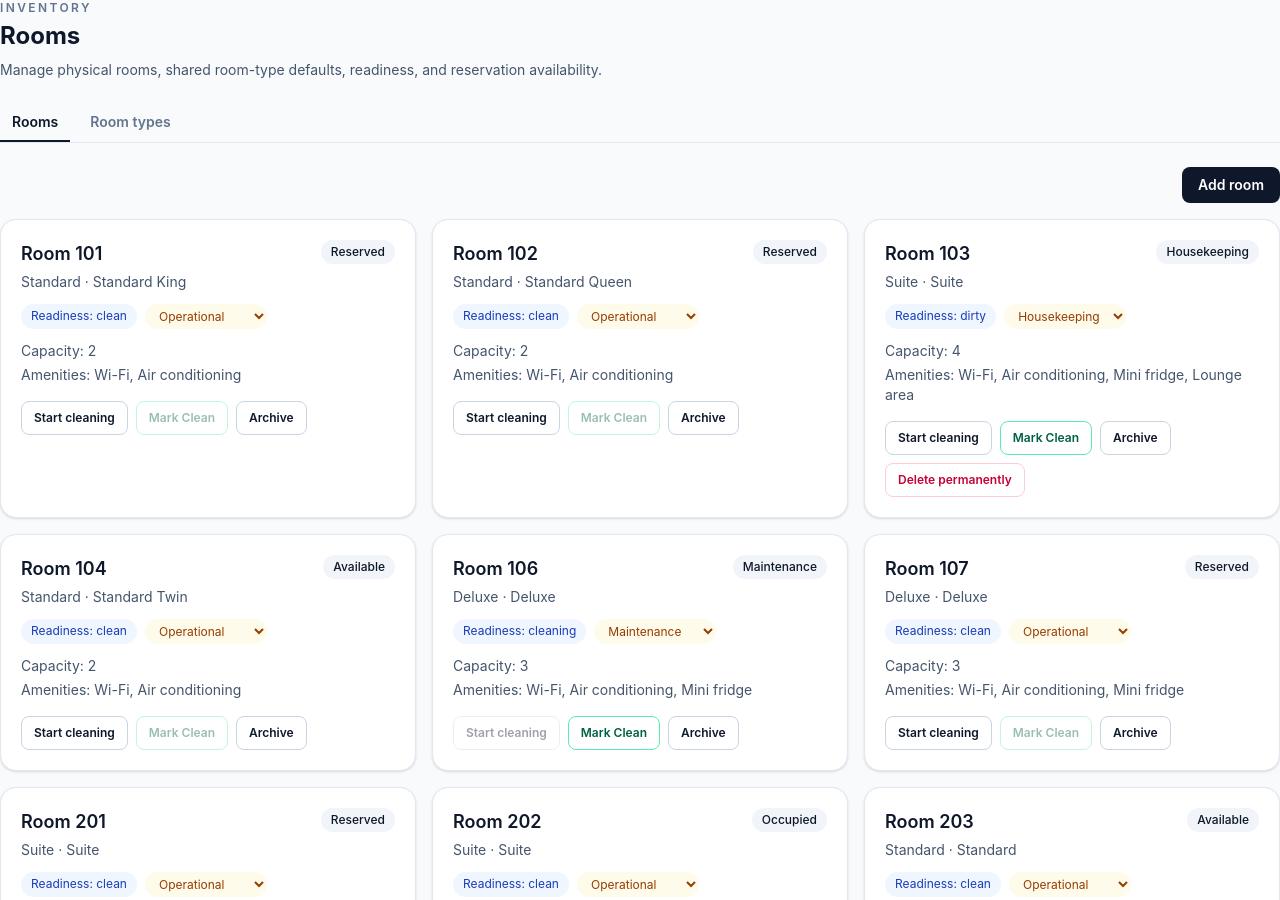
it: room inventory › opens a blank room-type form from Add room type
This screenshot has width=1280, height=900.
Click the button "Room types" at (130, 123), box [78,104,183,142]
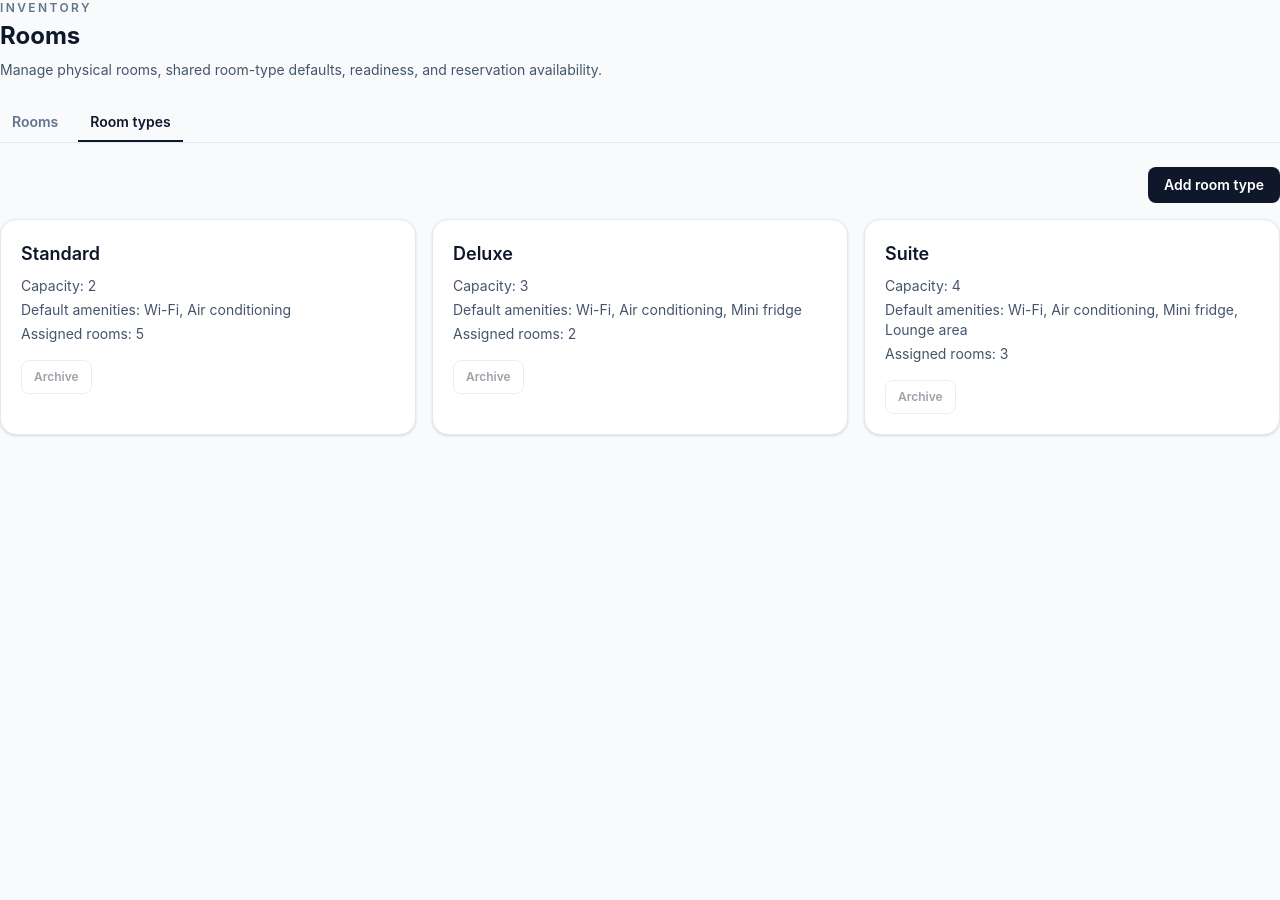
Click the button "Add room type" at (1214, 185), box [1148,167,1279,203]
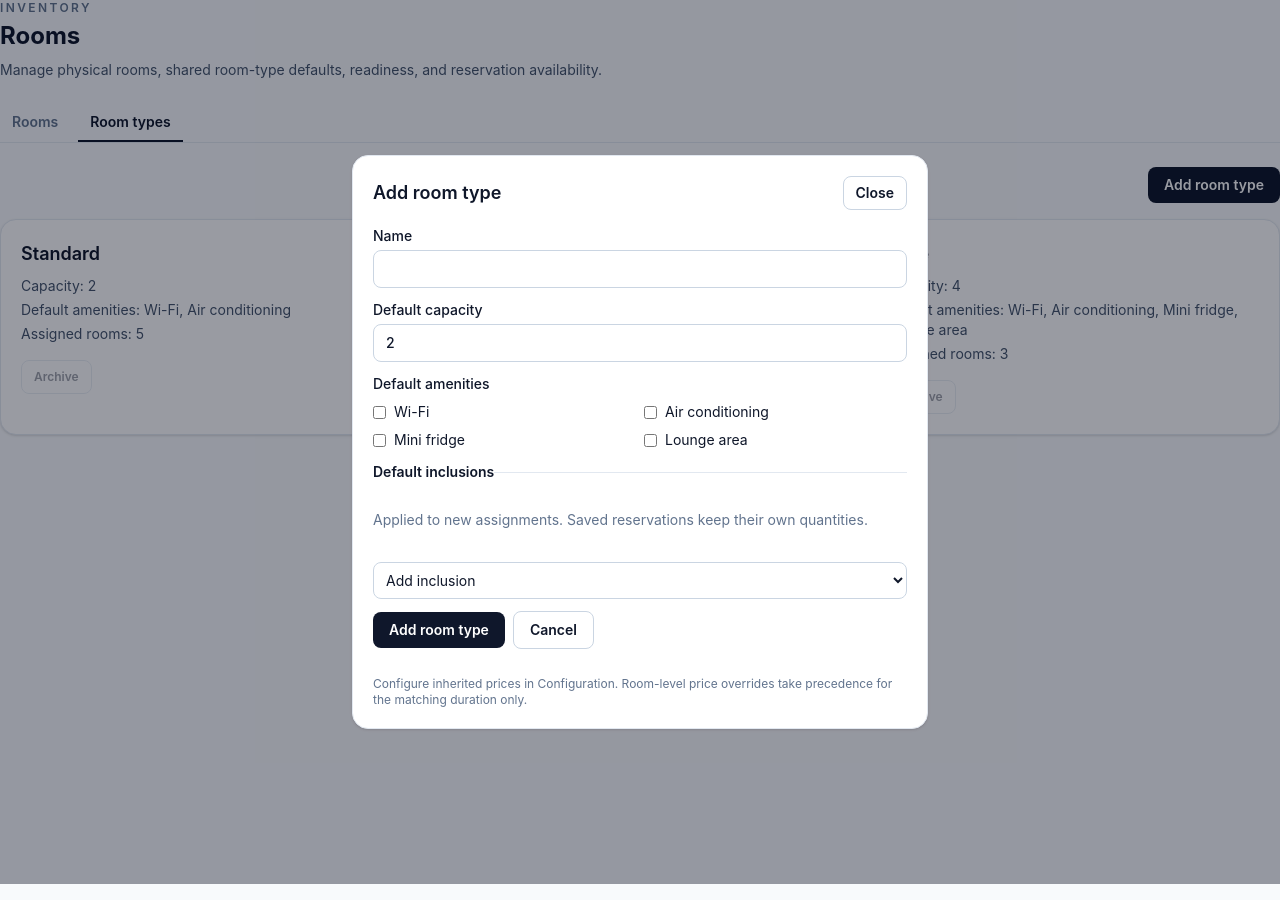
Result: the dialog "Add room type" is shown at [352,155,928,729]
Result: the field labelled "Name" is empty at [373,250,907,288]
